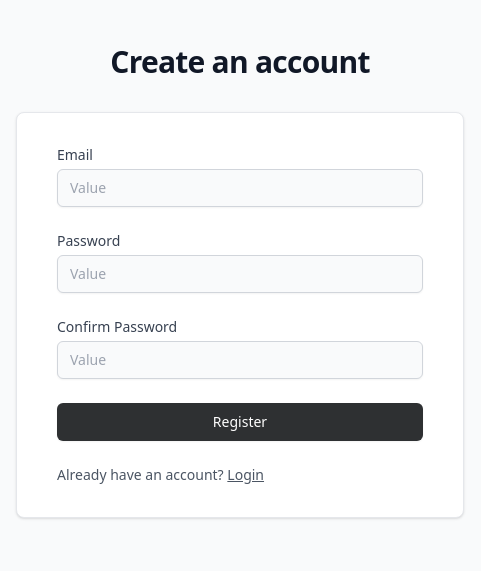
Scenario: Register Page › shows error when passwords do not match
The width and height of the screenshot is (481, 571).
Type "test@example.com" into the field labelled "Email" at (240, 188), box [57,169,423,207]
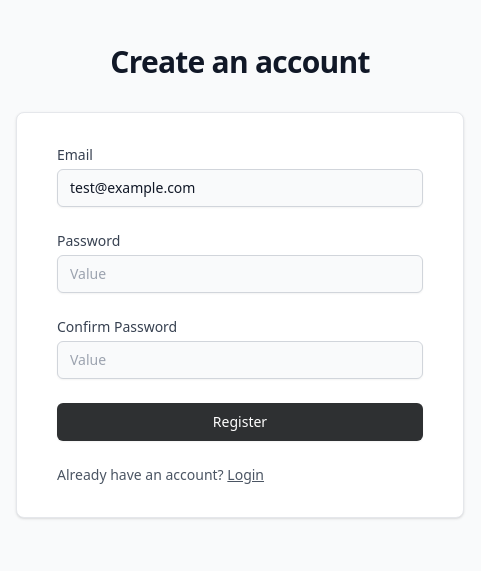
Type "password123" into the password field labelled "Password" at (240, 274), box [57,255,423,293]
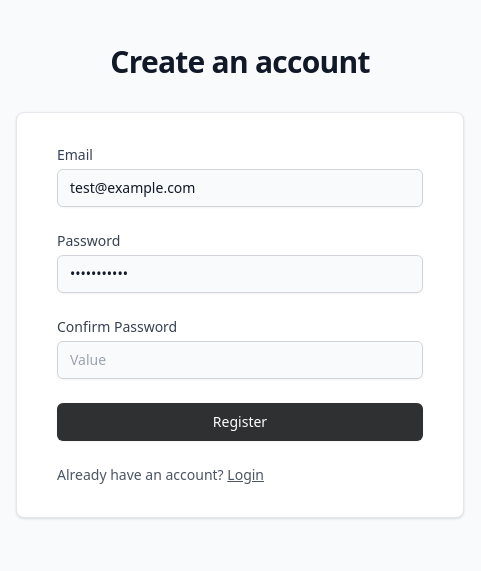
Type "mismatch" into the password field labelled "Confirm Password" at (240, 360), box [57,341,423,379]
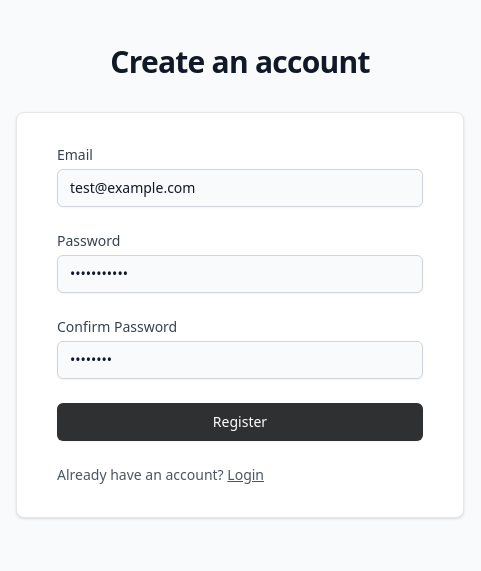
Click the button "Register" at (240, 422), box [57,403,423,441]
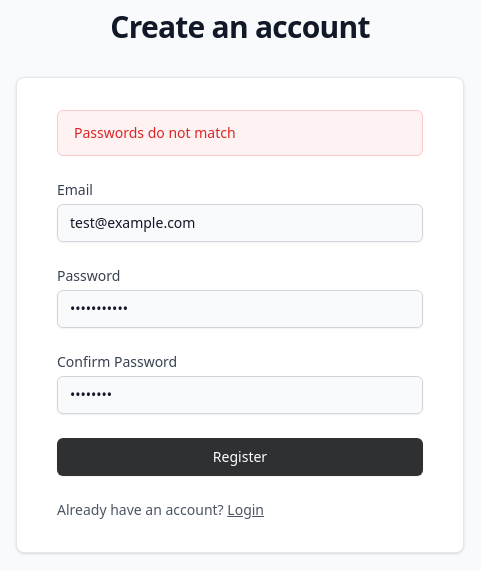
Expected: the text "Passwords do not match" is shown, [57,110,423,156]
